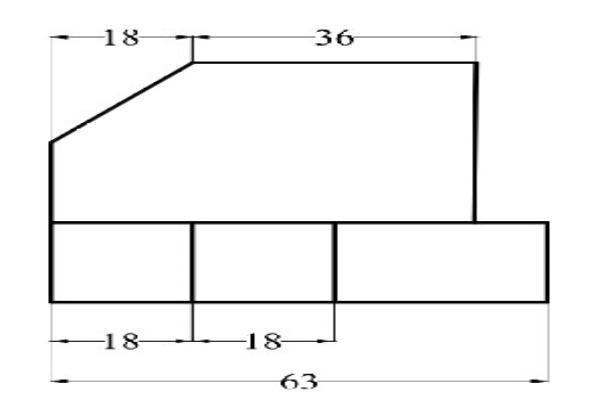dimensions: (311, 17, 357, 52), (103, 17, 142, 57), (242, 327, 289, 359), (101, 325, 146, 355), (277, 369, 324, 394)
